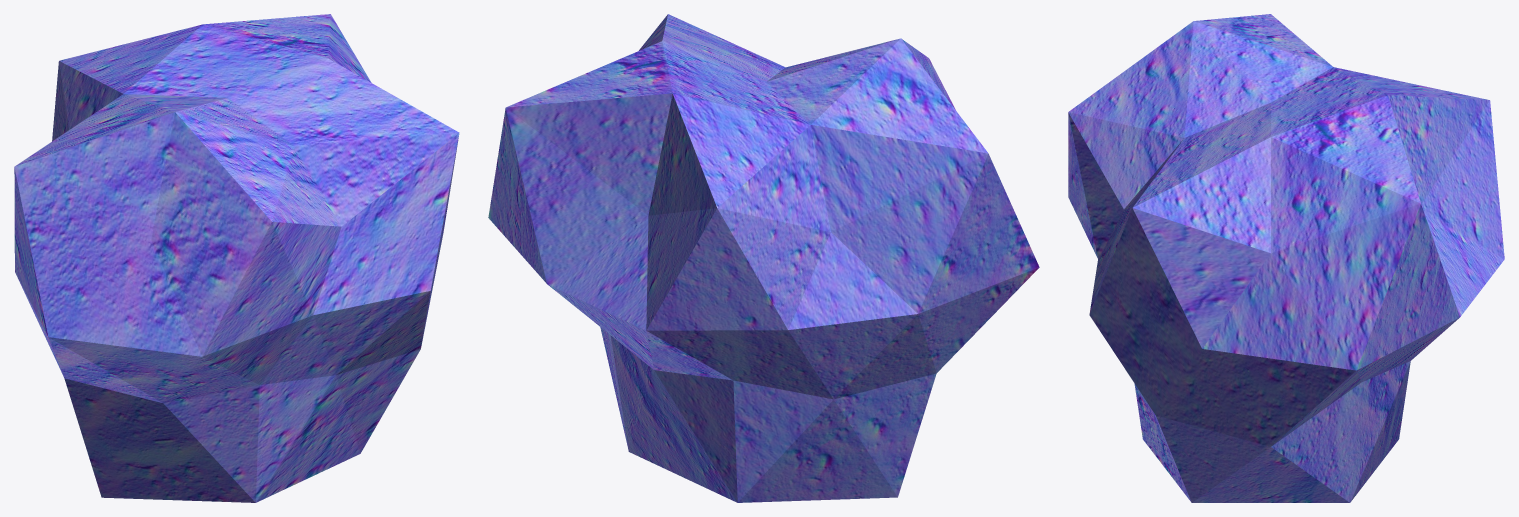
File: bigasteroid18_LOD4.fbx
The picture shows the model from 3 angles, left to right: view 1: azimuth 30°, elevation 25°; view 2: azimuth 150°, elevation 25°; view 3: azimuth 270°, elevation 25°; orthographic projection. The views are drawn at different scales.
Parts seen in each view (by area): view 1: Icosphere; view 2: Icosphere; view 3: Icosphere.
Part boxes in pixels (x1,y1,x2,y2): Icosphere: (14, 14, 459, 502); Icosphere: (488, 14, 1039, 502); Icosphere: (1068, 14, 1504, 502).
Bounding box in the file's own units: 302 × 262 × 253.
